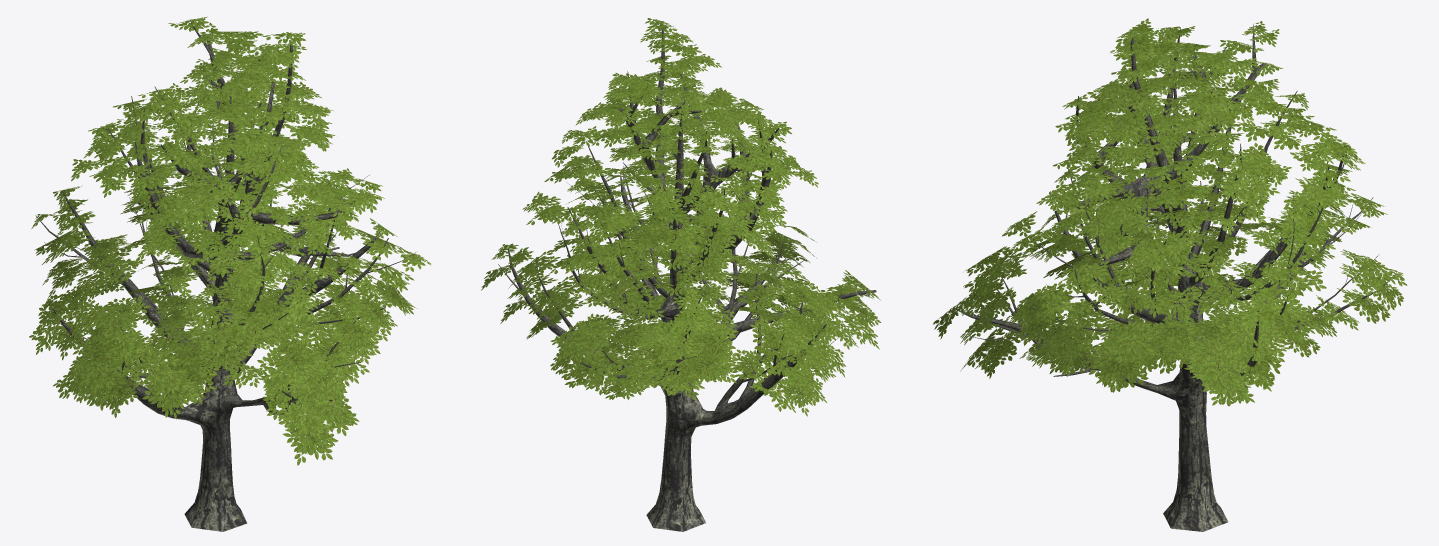
The model's file is Tree_05_Re.fbx.
The picture shows the model from 3 angles, left to right: view 1: azimuth 30°, elevation 25°; view 2: azimuth 150°, elevation 25°; view 3: azimuth 270°, elevation 25°; orthographic projection. The views are drawn at different scales.
Parts seen in each view (by area): view 1: Tree_5_Leaf, Tree_5_Trunk; view 2: Tree_5_Leaf, Tree_5_Trunk; view 3: Tree_5_Leaf, Tree_5_Trunk.
Boxes of the visible parts, left/top/right/bottom form: Tree_5_Leaf: left=29, top=16, right=431, bottom=465; Tree_5_Trunk: left=35, top=20, right=415, bottom=531; Tree_5_Leaf: left=481, top=18, right=881, bottom=416; Tree_5_Trunk: left=498, top=28, right=876, bottom=531; Tree_5_Leaf: left=933, top=18, right=1407, bottom=406; Tree_5_Trunk: left=953, top=24, right=1387, bottom=531.
Size of the model in its own units: 563 by 673 by 600.
2 materials, 2 textured.
